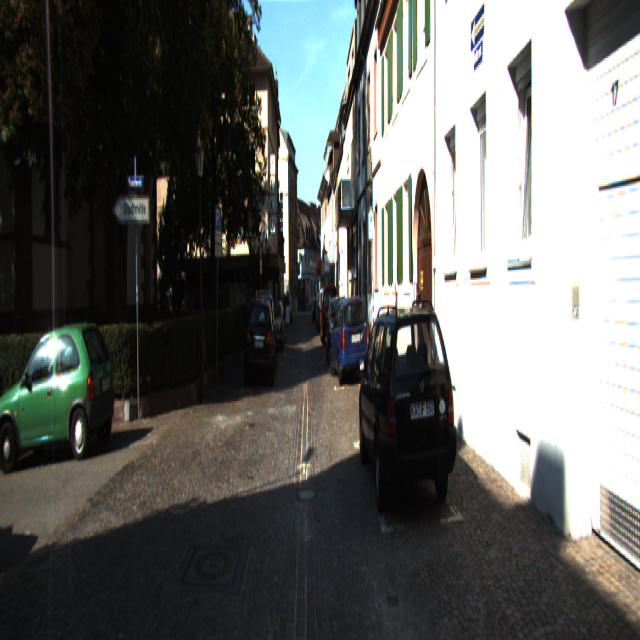Car: (356, 290, 464, 527), (0, 316, 119, 464), (330, 293, 371, 390), (244, 294, 277, 386), (320, 285, 338, 346), (266, 298, 287, 349)
